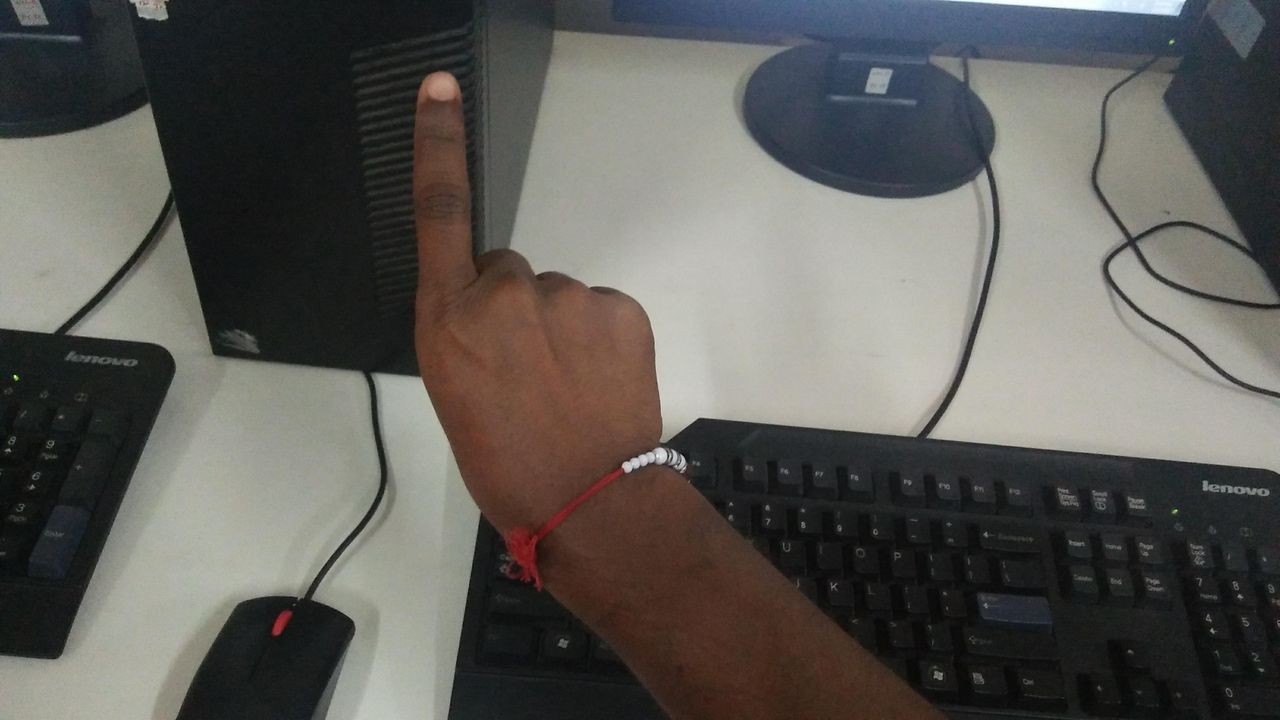fingertip: (400, 60, 464, 114)
